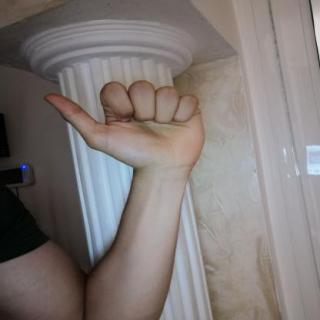DAD: (33, 76, 212, 177)
